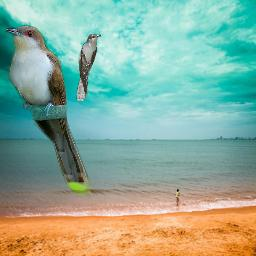Cuckoo: (4, 25, 91, 195), (76, 33, 101, 101)
